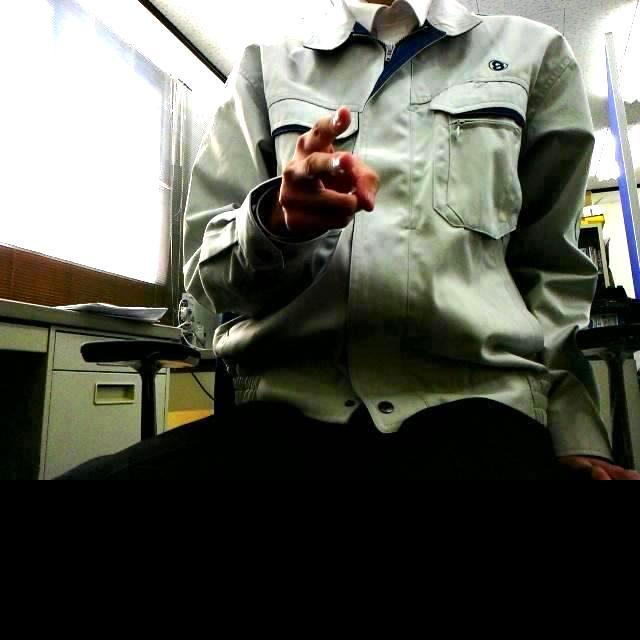tyoki: (279, 108, 377, 238)
